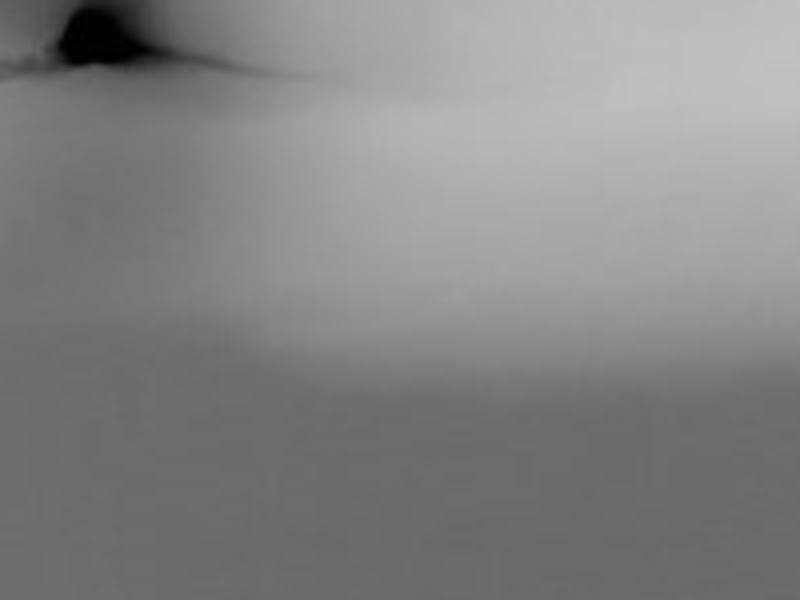defect: (55, 4, 154, 66)
